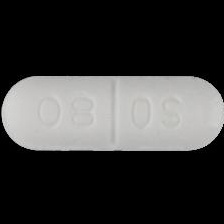53217-011: (0, 0, 224, 224)
